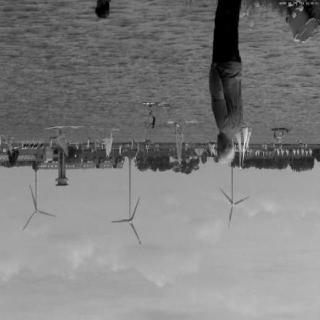other: (199, 53, 249, 139)
